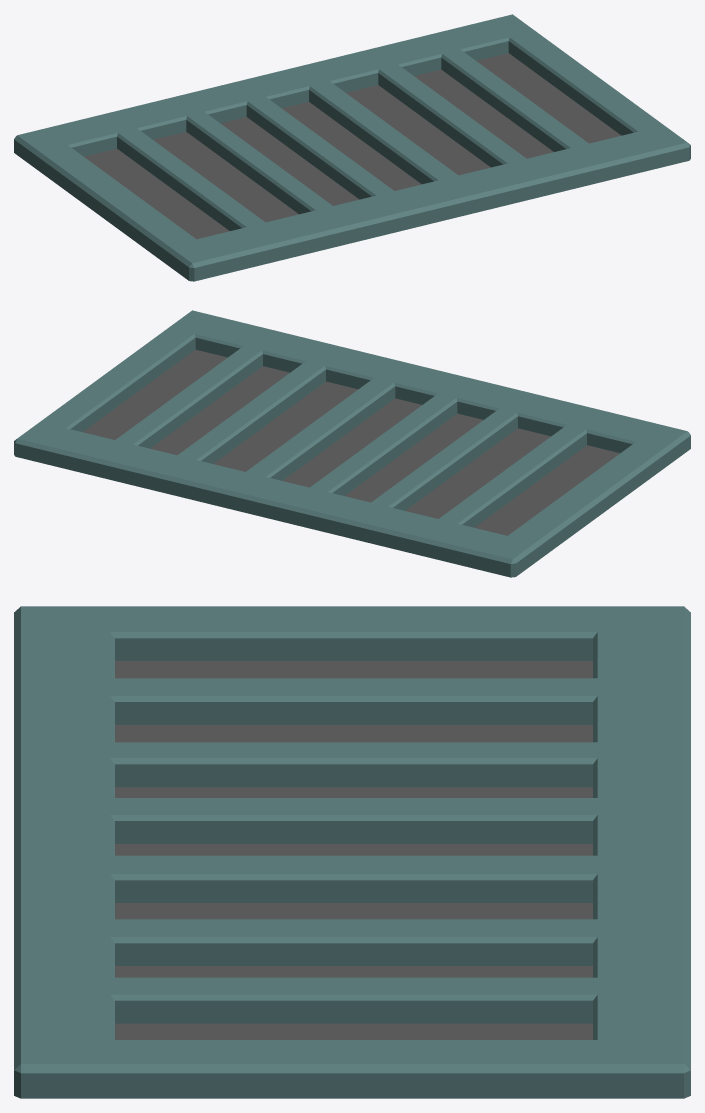
Rendered from Alcantarilla_01.fbx.
The picture shows the model from 3 angles, top to bottom: view 1: azimuth 30°, elevation 25°; view 2: azimuth 150°, elevation 25°; view 3: azimuth 270°, elevation 25°; orthographic projection. The views are drawn at different scales.
Visible parts, largest first — view 1: pCube32; view 2: pCube32; view 3: pCube32.
Part boxes in pixels (bbox=[...]): pCube32: bbox=[14, 14, 690, 281]; pCube32: bbox=[14, 310, 690, 577]; pCube32: bbox=[14, 606, 690, 1098].
Size of the model in its own units: 107 by 3.42 by 65.89.
